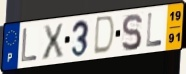3: (70, 18, 92, 60)
D: (92, 15, 117, 57)
L: (145, 12, 164, 49), (20, 27, 38, 64)
S: (120, 13, 143, 53)
X: (41, 22, 65, 62)
